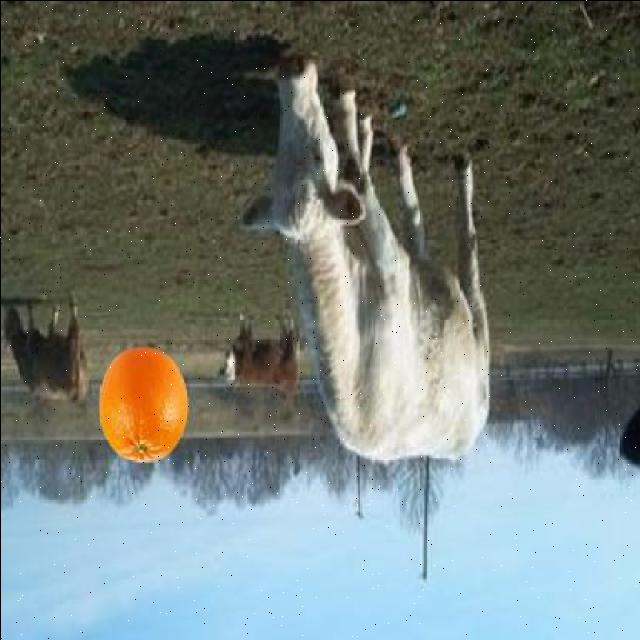Orange: (96, 344, 192, 466)
